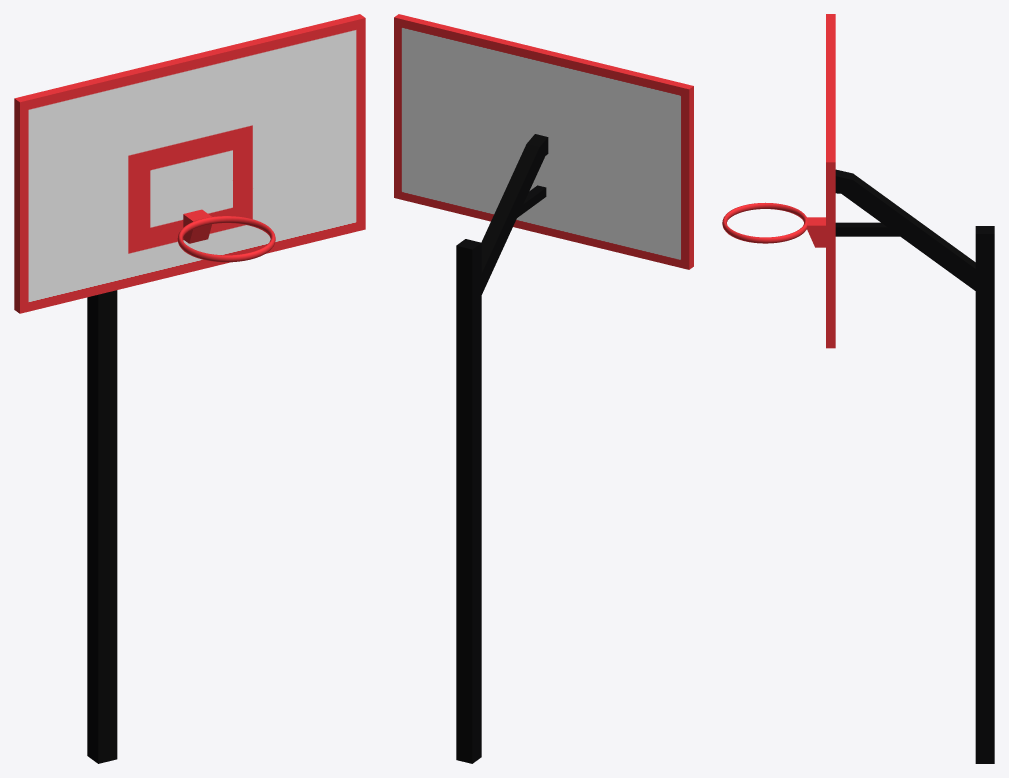
The model's file is BasketballGoal.fbx.
3 renders of one model, left to right at view 1: azimuth 30°, elevation 25°; view 2: azimuth 150°, elevation 25°; view 3: azimuth 270°, elevation 25°, orthographic. The views are drawn at different scales.
Visible parts, largest first — view 1: BasketballGoal; view 2: BasketballGoal; view 3: BasketballGoal.
Boxes of the visible parts, x1,y1,x2,y2 form: BasketballGoal: (14,14,365,763); BasketballGoal: (394,14,693,763); BasketballGoal: (722,14,994,763).
Bounding box in the file's own units: 183 × 386 × 142.
